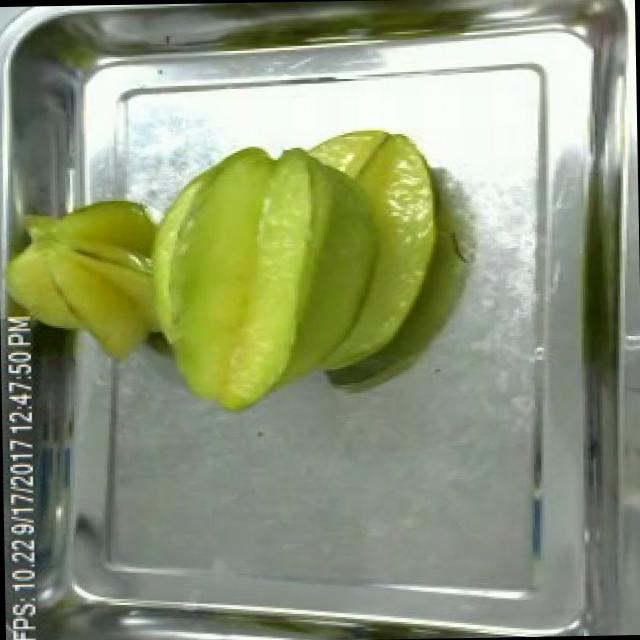fruit: (128, 128, 450, 414), (0, 187, 167, 366)
